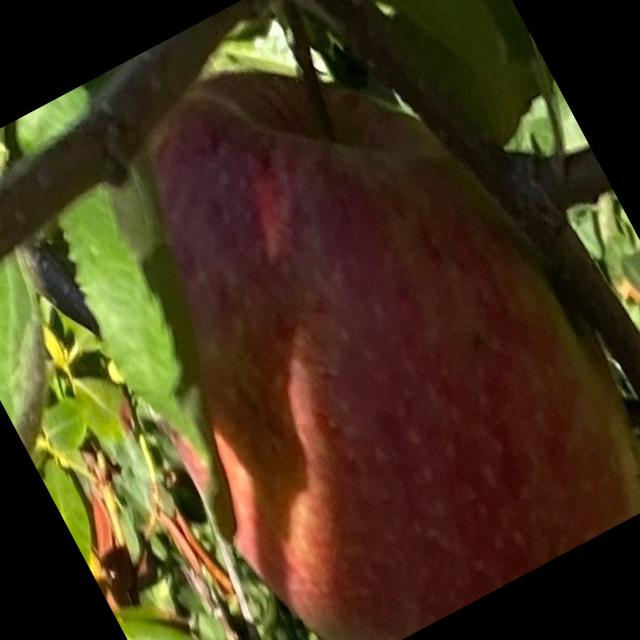Apples: (24, 0, 639, 639)
